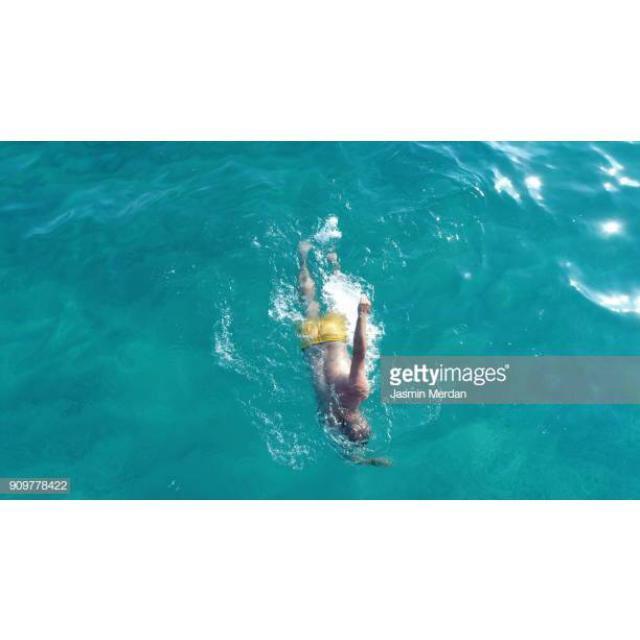human: (290, 236, 392, 472)
